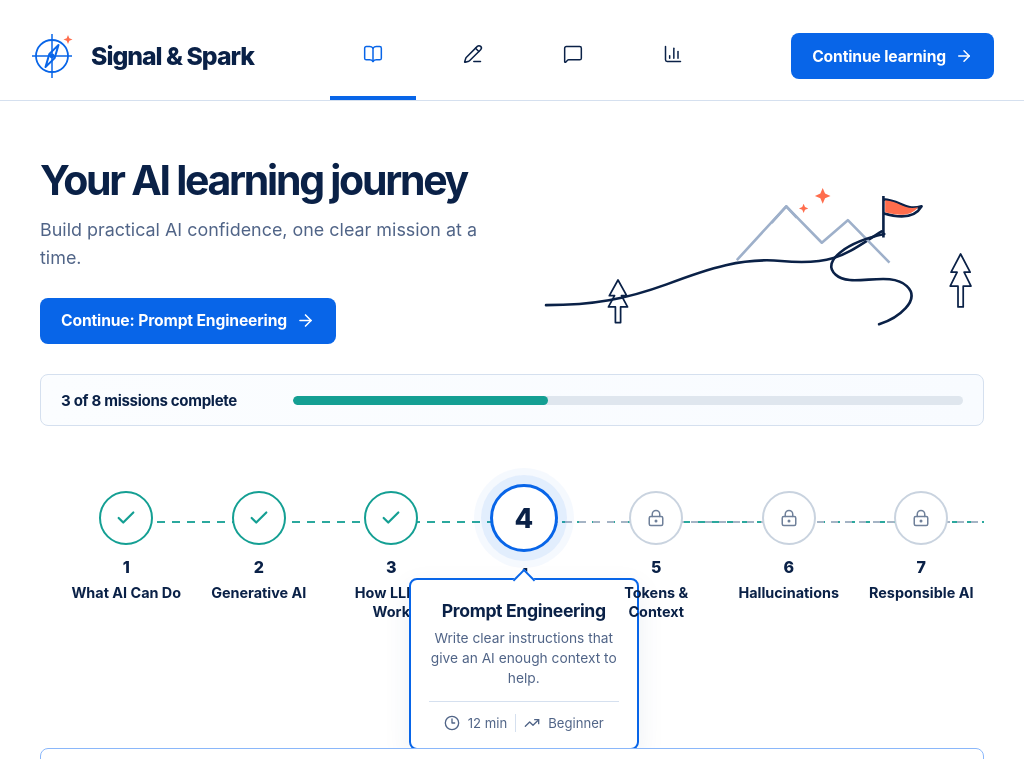
Test: Signal & Spark app › shows a level consistent with the seeded progress
Click the 4th button named "Progress".
click(673, 56)  # box [630,12,716,100]
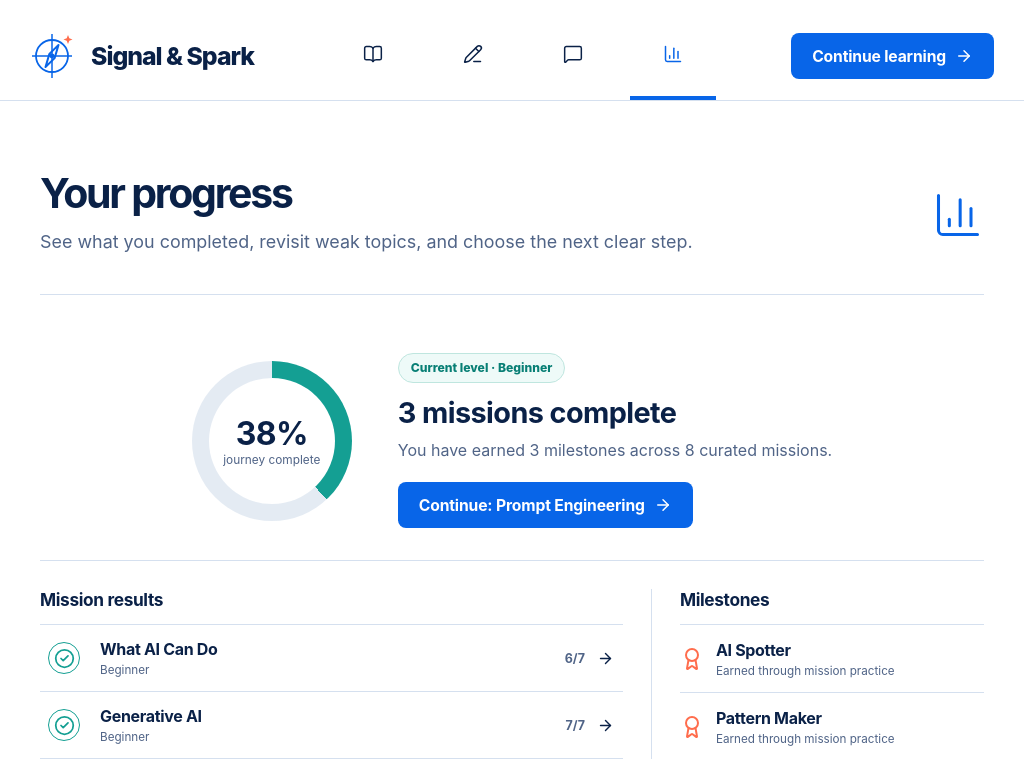
Expected: the text "Current level · Beginner" is shown, [398,353,565,383]
Expected: the heading "3 missions complete" is shown, [398,395,676,430]
Expected: the text "You have earned 3 milestones across 8 curated missions." is shown, [398,438,832,462]
